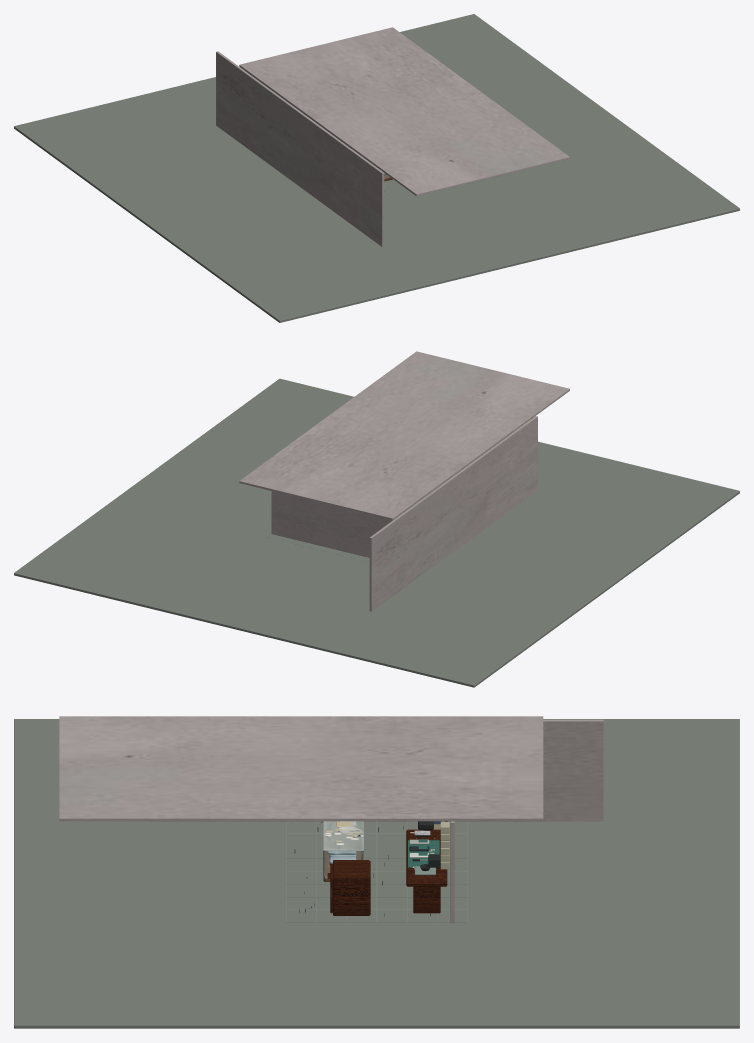
File: oldlane-shop-hyper3d.glb
The picture shows the model from 3 angles, top to bottom: view 1: azimuth 30°, elevation 25°; view 2: azimuth 150°, elevation 25°; view 3: azimuth 270°, elevation 25°; orthographic projection. The views are drawn at different scales.
Parts seen in each view (by area): view 1: Floor, Shop_ceiling, Left_wall; view 2: Floor, Shop_ceiling, Left_wall, Rear_wall; view 3: Floor, Shop_ceiling, Left_wall, Hyper3D_display_counter, Cabinet_right, Repair_bench, Bench_leg.001, Cabinet_top, Rear_wall.
Boxes of the visible parts, box(x1,y1,x2,y2) form: Floor: box(14, 14, 739, 322); Shop_ceiling: box(239, 27, 569, 196); Left_wall: box(216, 51, 384, 246); Floor: box(14, 378, 739, 687); Shop_ceiling: box(239, 351, 569, 520); Left_wall: box(369, 416, 537, 611); Rear_wall: box(271, 491, 392, 557); Floor: box(14, 719, 739, 1028); Shop_ceiling: box(59, 716, 543, 821); Left_wall: box(150, 719, 603, 821); Hyper3D_display_counter: box(323, 821, 363, 881); Cabinet_right: box(333, 877, 369, 915); Repair_bench: box(406, 829, 447, 886); Bench_leg.001: box(413, 886, 440, 913); Cabinet_top: box(333, 860, 369, 877); Rear_wall: box(450, 821, 454, 923).
Size of the model in its own units: 24 by 3.94 by 24.
Materials: 31 (17 with a texture image).
